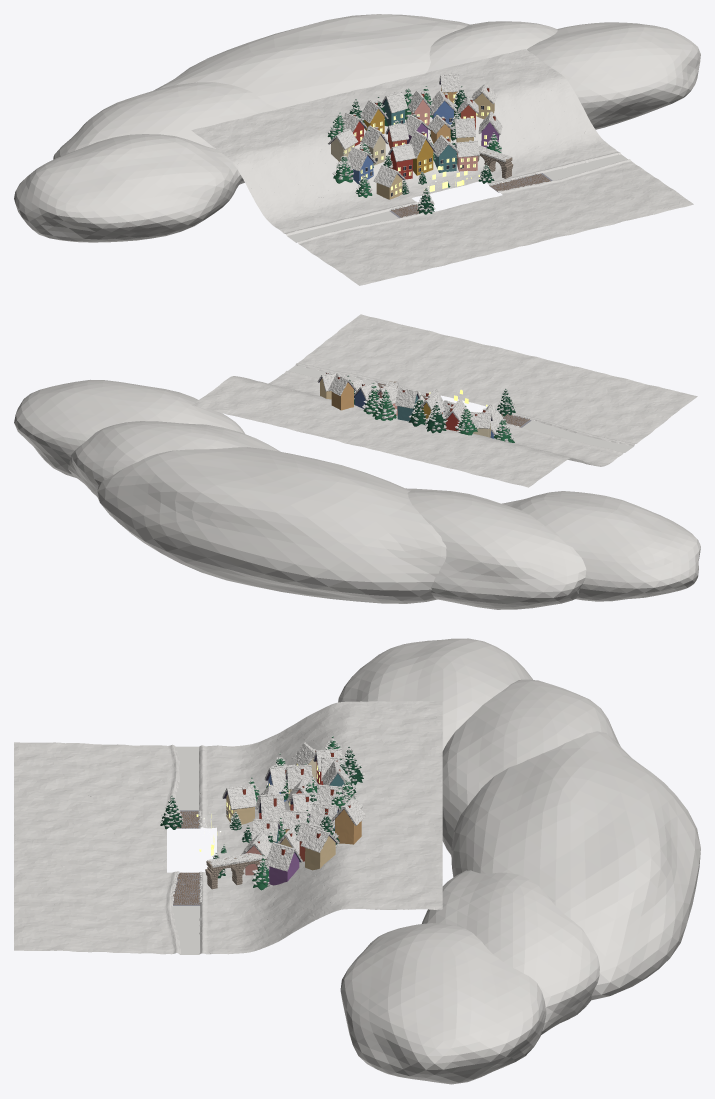
Rendered from rest.glb.
3 renders of one model, top to bottom at view 1: azimuth 30°, elevation 25°; view 2: azimuth 150°, elevation 25°; view 3: azimuth 270°, elevation 25°, orthographic. The views are drawn at different scales.
Parts seen in each view (by area): view 1: GroundSnow, Snow, Needles_0.102, Needles_0.05, Cobble, StreetBed.001, BgGlow, CreamWood, Bg2_wall; view 2: GroundSnow, Snow, Needles_0.102, Needles_0.05; view 3: GroundSnow, Snow, Needles_0.05, Cobble, Needles_0.102, StreetBed.001.
Part boxes in pixels (x1,y1,x2,y2): GroundSnow: [14, 14, 700, 285]; Snow: [327, 73, 512, 211]; Needles_0.102: [327, 86, 501, 197]; Needles_0.05: [349, 86, 494, 214]; Cobble: [391, 173, 550, 217]; StreetBed.001: [390, 173, 552, 218]; BgGlow: [344, 94, 490, 194]; CreamWood: [344, 94, 490, 196]; Bg2_wall: [412, 139, 433, 175]; GroundSnow: [14, 314, 700, 609]; Snow: [317, 371, 515, 441]; Needles_0.102: [363, 383, 514, 442]; Needles_0.05: [347, 375, 515, 433]; GroundSnow: [14, 638, 700, 1084]; Snow: [160, 736, 365, 886]; Needles_0.05: [160, 747, 363, 878]; Cobble: [173, 811, 200, 904]; Needles_0.102: [220, 736, 355, 890]; StreetBed.001: [173, 810, 200, 905].
Bounding box in the file's own units: 170 × 30.52 × 118.
